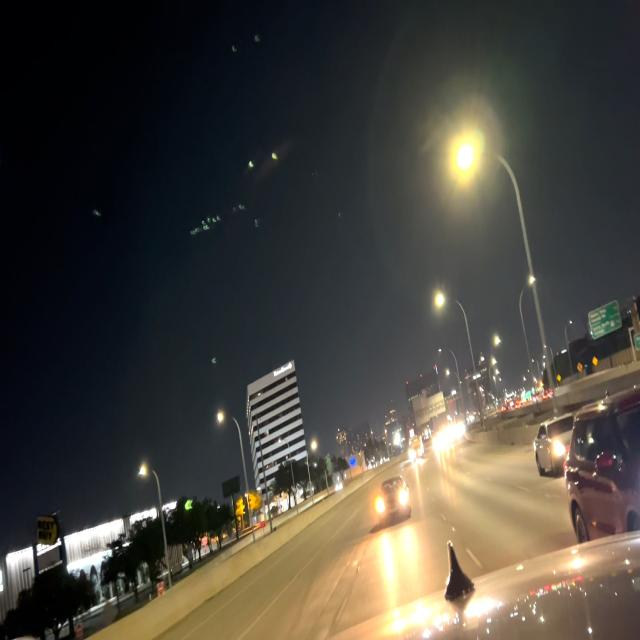back-of-sign: (411, 389, 447, 428)
